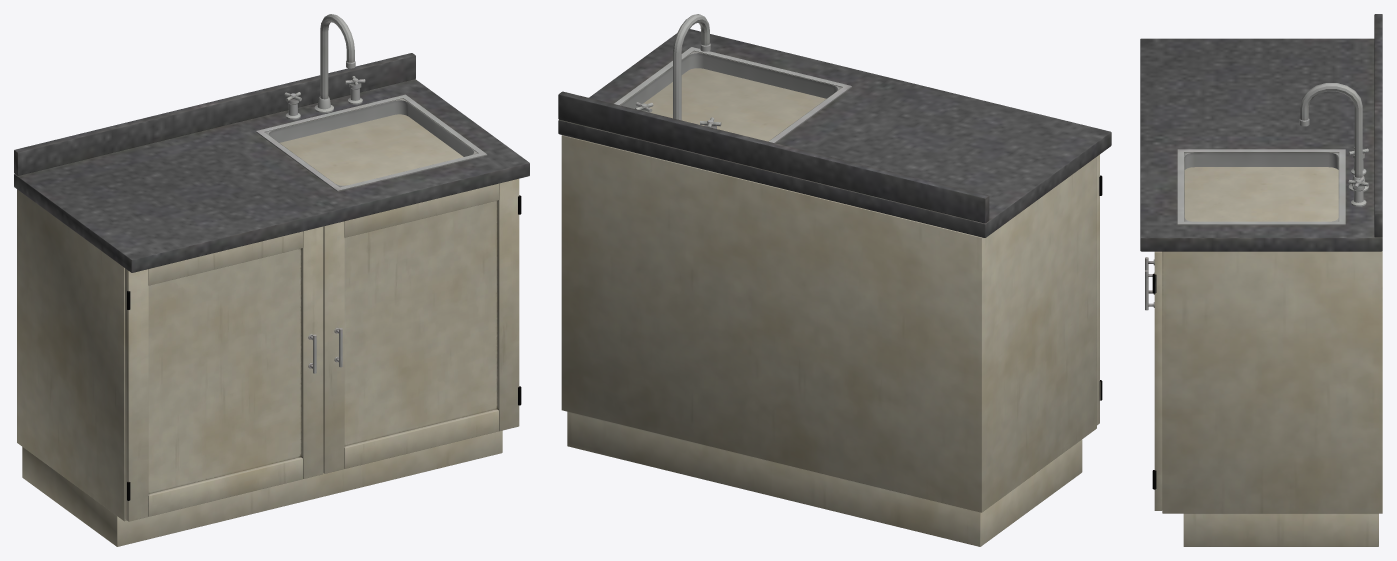
File: balcao_pia.glb
The picture shows the model from 3 angles, left to right: view 1: azimuth 30°, elevation 25°; view 2: azimuth 150°, elevation 25°; view 3: azimuth 270°, elevation 25°; orthographic projection. The views are drawn at different scales.
Visible parts, largest first — view 1: tampo, porta_esq, porta_dir, corpo, torneira; view 2: corpo, tampo, torneira, porta_esq; view 3: corpo, tampo, porta_dir, torneira.
Boxes of the visible parts, x1,y1,x2,y2 form: tampo: (14, 53, 529, 272); porta_esq: (125, 226, 323, 521); porta_dir: (323, 178, 521, 473); corpo: (17, 114, 502, 546); torneira: (284, 14, 365, 119); corpo: (561, 68, 1096, 546); tampo: (558, 29, 1111, 237); torneira: (635, 14, 721, 128); porta_esq: (1097, 154, 1102, 425); corpo: (1162, 167, 1382, 546); tampo: (1140, 14, 1382, 251); porta_dir: (1145, 251, 1162, 510); torneira: (1299, 83, 1368, 206).
Size of the model in its own units: 1.22 by 1.19 by 0.626.
Materials: 2 (2 with a texture image).
